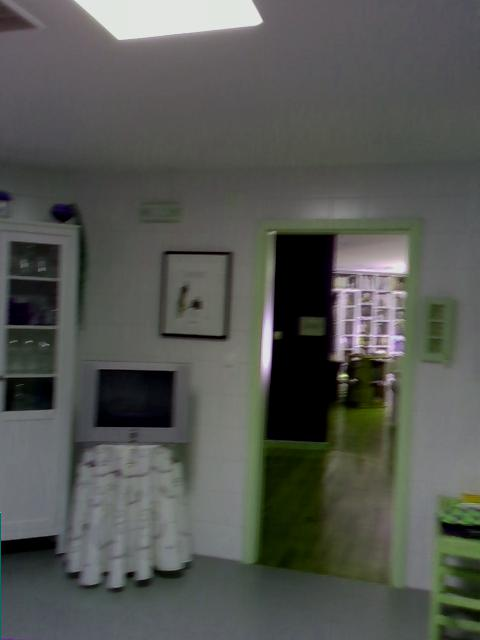open_door: (242, 214, 425, 591)
